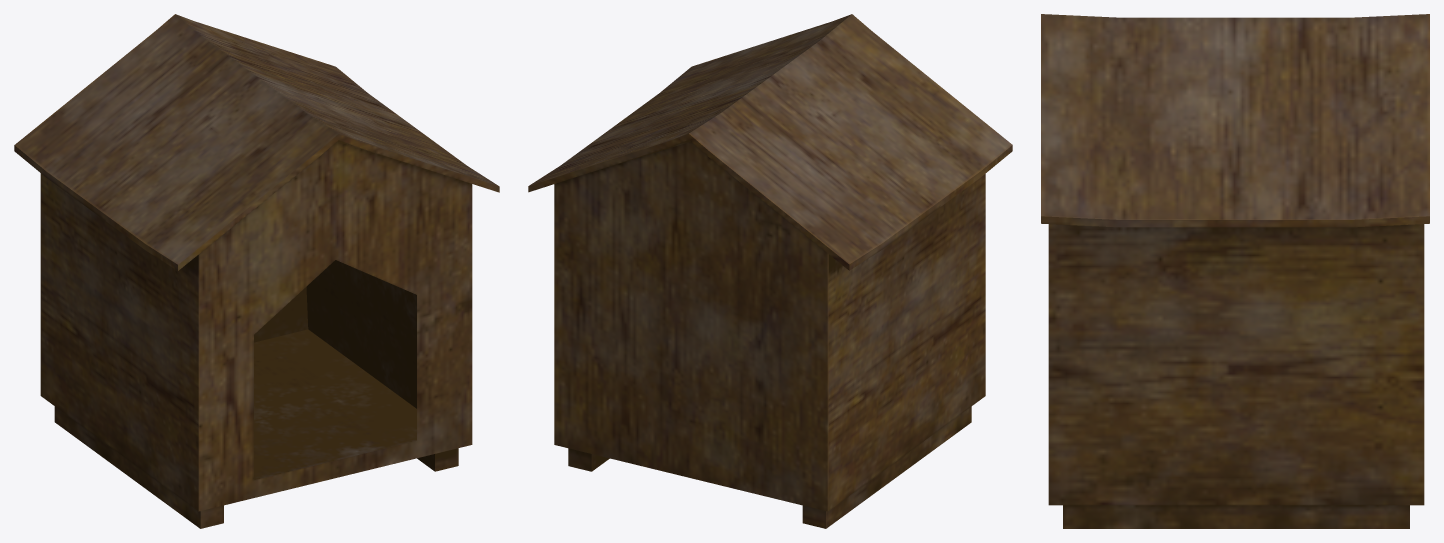
The model's file is doghouse.fbx.
3 renders of one model, left to right at view 1: azimuth 30°, elevation 25°; view 2: azimuth 150°, elevation 25°; view 3: azimuth 270°, elevation 25°, orthographic. The views are drawn at different scales.
Parts seen in each view (by area): view 1: Cube.001; view 2: Cube.001; view 3: Cube.001.
Part boxes in pixels (x1,y1,x2,y2): Cube.001: (14,14,499,528); Cube.001: (528,14,1012,528); Cube.001: (1041,14,1429,528).
Bounding box in the file's own units: 95.28 × 105 × 84.
Materials: 1 (1 with a texture image).
